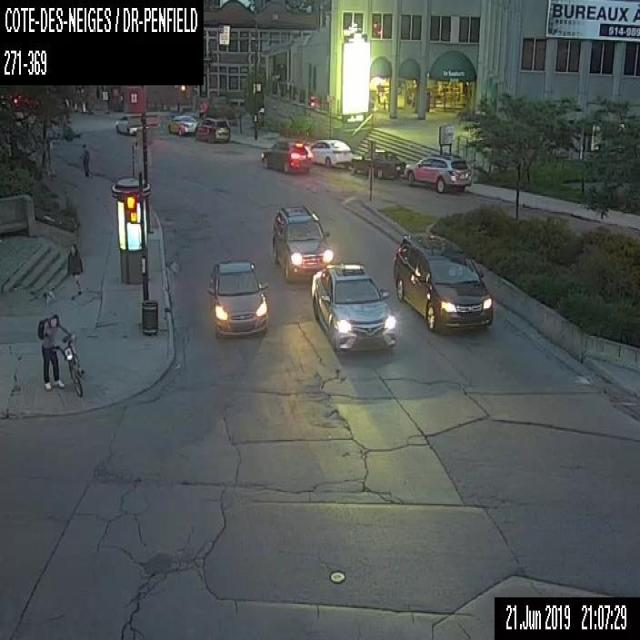pedestrian: (35, 312, 82, 394), (65, 243, 83, 300), (79, 142, 88, 178)
vehicle: (392, 231, 494, 332), (311, 264, 399, 354), (206, 257, 269, 339), (272, 203, 332, 281), (406, 151, 472, 192), (260, 139, 312, 172), (352, 148, 405, 178), (308, 138, 352, 168), (196, 116, 229, 141), (167, 113, 197, 134), (114, 113, 141, 136)
